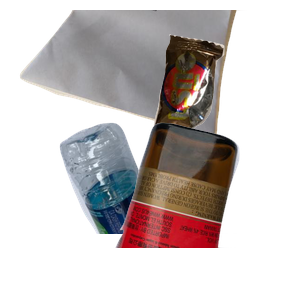glass: (113, 120, 300, 300)
paper: (17, 10, 254, 141)
plastic: (57, 120, 284, 300)
trash: (150, 32, 300, 172)
